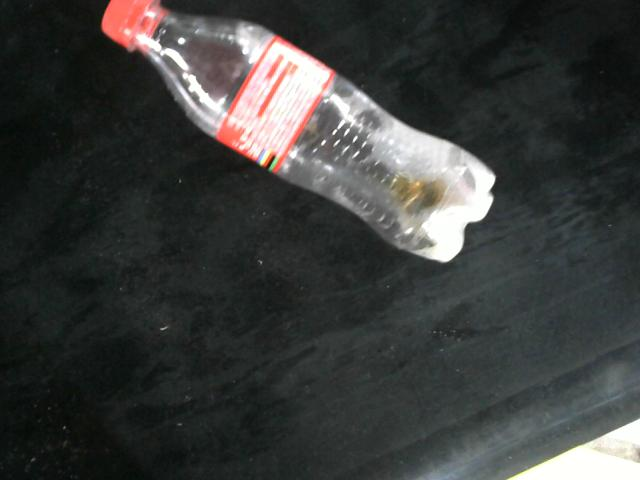bottle: (100, 0, 499, 266)
